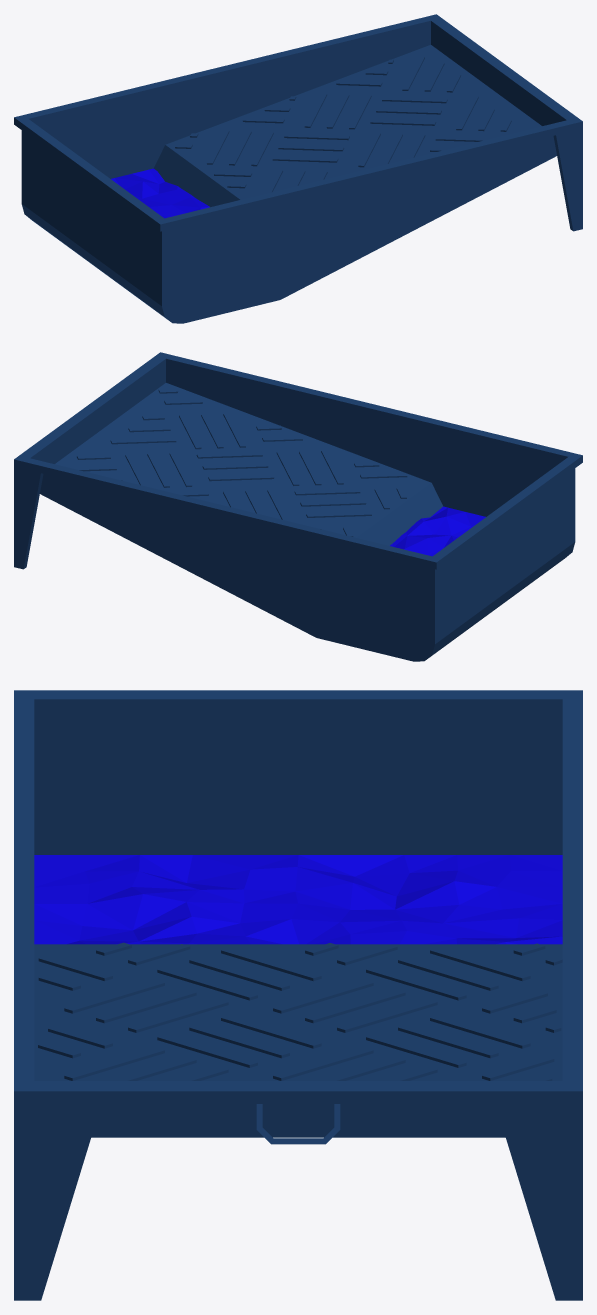
File: SM_Roller_Bucket_In_Paint.gltf
3 renders of one model, top to bottom at view 1: azimuth 30°, elevation 25°; view 2: azimuth 150°, elevation 25°; view 3: azimuth 270°, elevation 25°, orthographic. The views are drawn at different scales.
Parts seen in each view (by area): view 1: SM_Roller_Bucket_In_Paint; view 2: SM_Roller_Bucket_In_Paint; view 3: SM_Roller_Bucket_In_Paint.
Boxes of the visible parts, box(x1,y1,x2,y2) form: SM_Roller_Bucket_In_Paint: box(14, 14, 582, 323); SM_Roller_Bucket_In_Paint: box(14, 352, 582, 661); SM_Roller_Bucket_In_Paint: box(14, 690, 582, 1300).
Bounding box in the file's own units: 0.7423 × 0.1775 × 0.4373.
